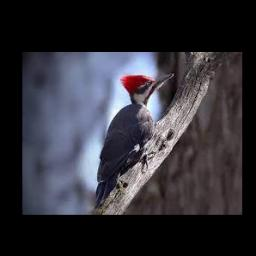Woodpecker: (94, 73, 174, 207)
